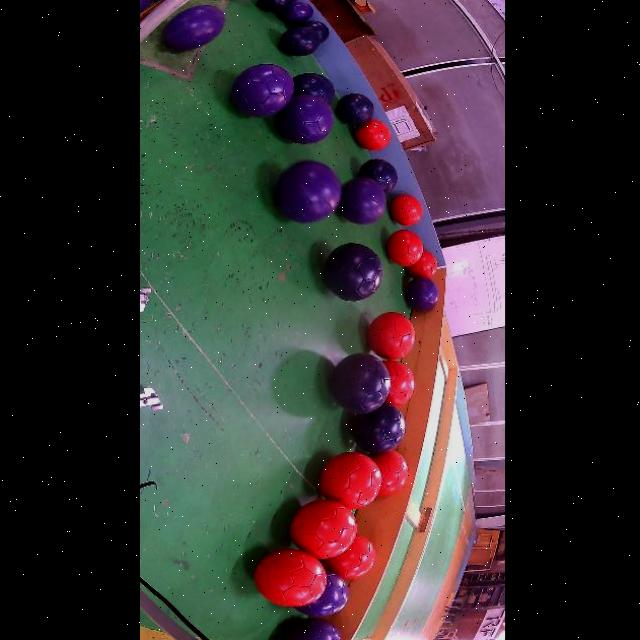B: (330, 353, 391, 414), (324, 244, 382, 301), (353, 404, 405, 454), (359, 158, 397, 194), (293, 73, 334, 105), (279, 26, 320, 57), (336, 94, 374, 125), (405, 278, 439, 311), (294, 20, 329, 43), (256, 0, 293, 12)
P: (275, 161, 341, 223), (231, 65, 294, 118), (162, 5, 225, 51), (277, 95, 334, 145), (296, 570, 349, 617), (338, 178, 386, 225), (285, 618, 340, 640), (278, 2, 313, 24)
R: (254, 550, 326, 607), (289, 500, 357, 558), (320, 452, 382, 510), (323, 536, 376, 580), (367, 312, 415, 359), (371, 451, 409, 496), (383, 360, 415, 407), (387, 230, 423, 266), (354, 119, 391, 151), (391, 194, 423, 226), (407, 250, 438, 279)
